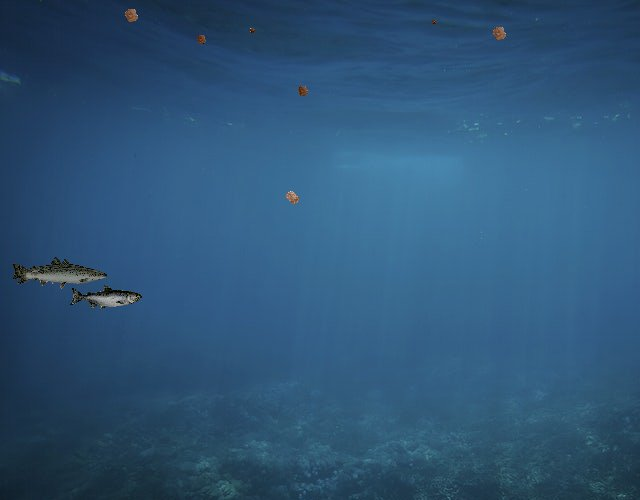Fish: (15, 258, 109, 292), (10, 255, 96, 286), (70, 285, 143, 311)
Pellet: (278, 183, 306, 211), (117, 1, 145, 29), (292, 80, 314, 102), (246, 25, 258, 37)
